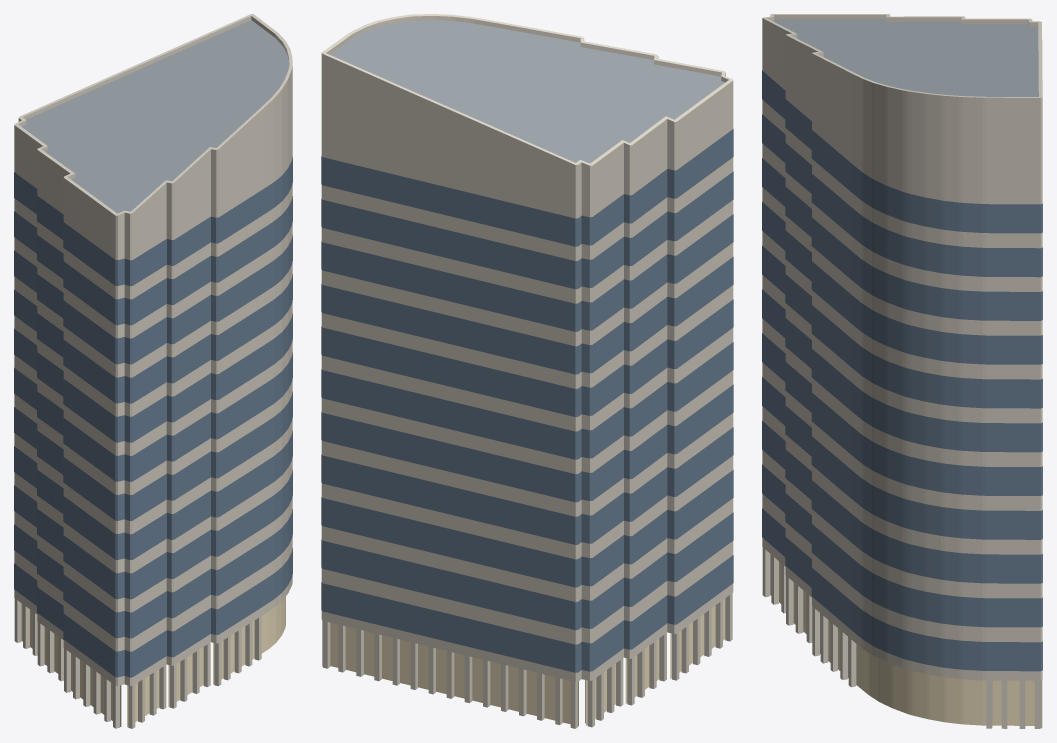
Rendered from nash-nashville-city-center.glb.
3 renders of one model, left to right at view 1: azimuth 30°, elevation 25°; view 2: azimuth 150°, elevation 25°; view 3: azimuth 270°, elevation 25°, orthographic. The views are drawn at different scales.
Parts seen in each view (by area): view 1: Nashville City Center; view 2: Nashville City Center; view 3: Nashville City Center.
Part boxes in pixels (left/top/right/bottom): Nashville City Center: left=14, top=14, right=292, bottom=728; Nashville City Center: left=321, top=14, right=733, bottom=728; Nashville City Center: left=762, top=14, right=1042, bottom=728.
Size of the model in its own units: 53.2 by 111 by 44.77.
